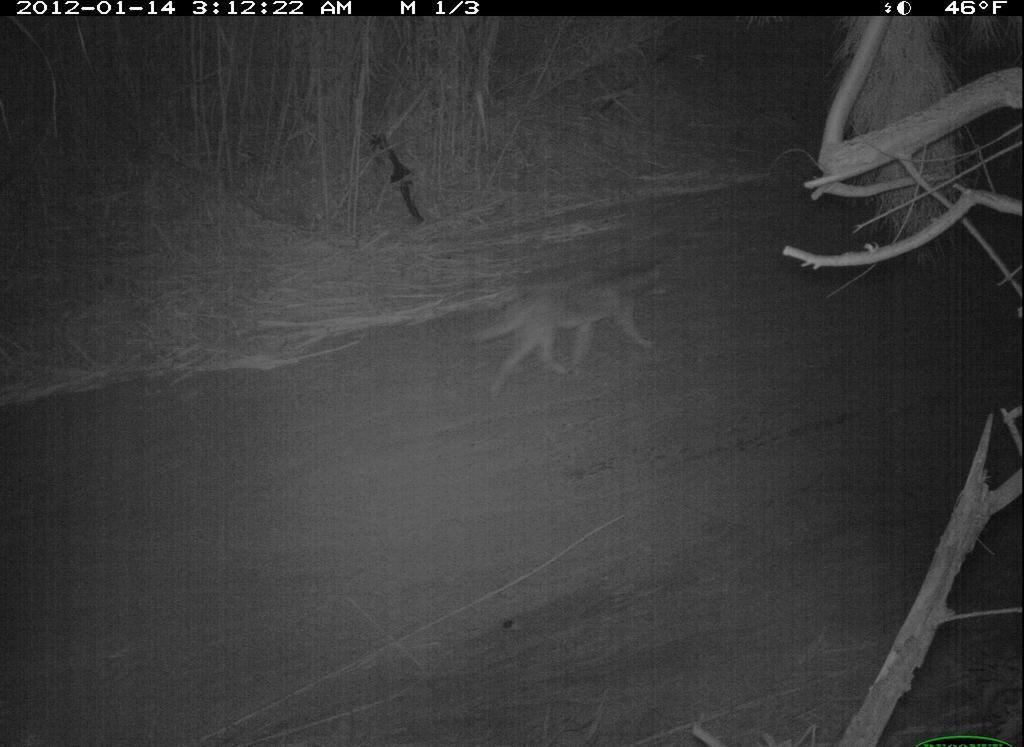coyote: (443, 253, 676, 408)
